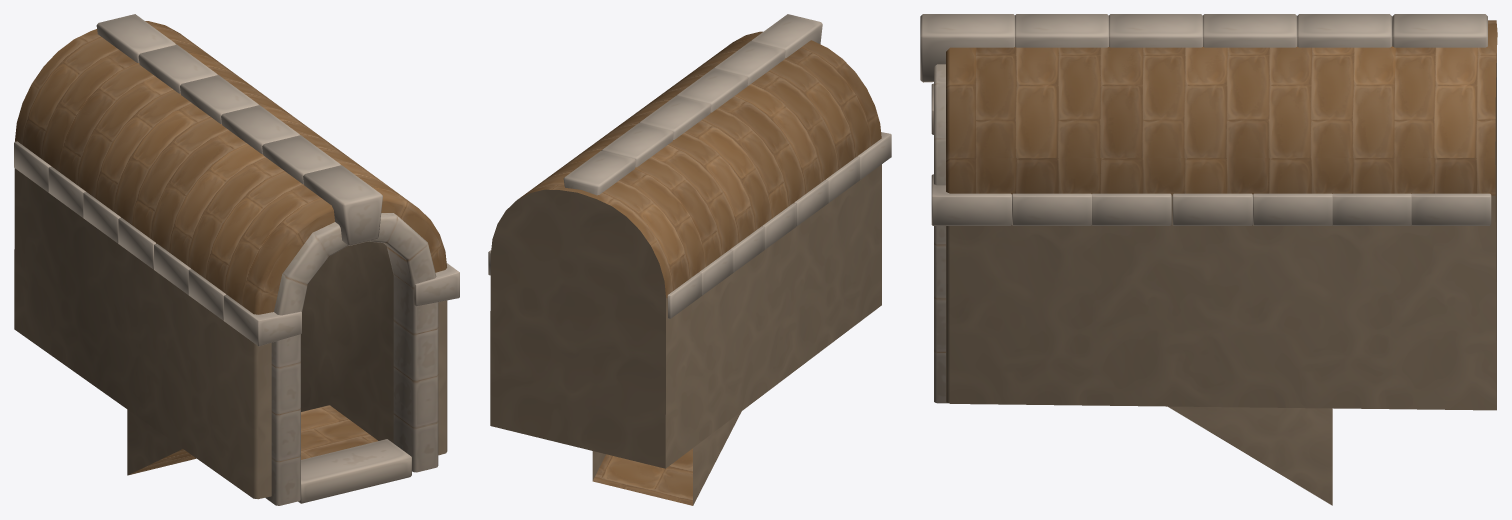
The model's file is SM_CrowdTunnel.fbx.
3 renders of one model, left to right at view 1: azimuth 30°, elevation 25°; view 2: azimuth 150°, elevation 25°; view 3: azimuth 270°, elevation 25°, orthographic. The views are drawn at different scales.
Visible parts, largest first — view 1: CrowdTunnel; view 2: CrowdTunnel; view 3: CrowdTunnel.
Boxes of the visible parts, box(x1,y1,x2,y2) form: CrowdTunnel: box(14, 14, 459, 505); CrowdTunnel: box(488, 14, 891, 505); CrowdTunnel: box(920, 14, 1497, 505).
Size of the model in its own units: 276 by 514 by 597.
